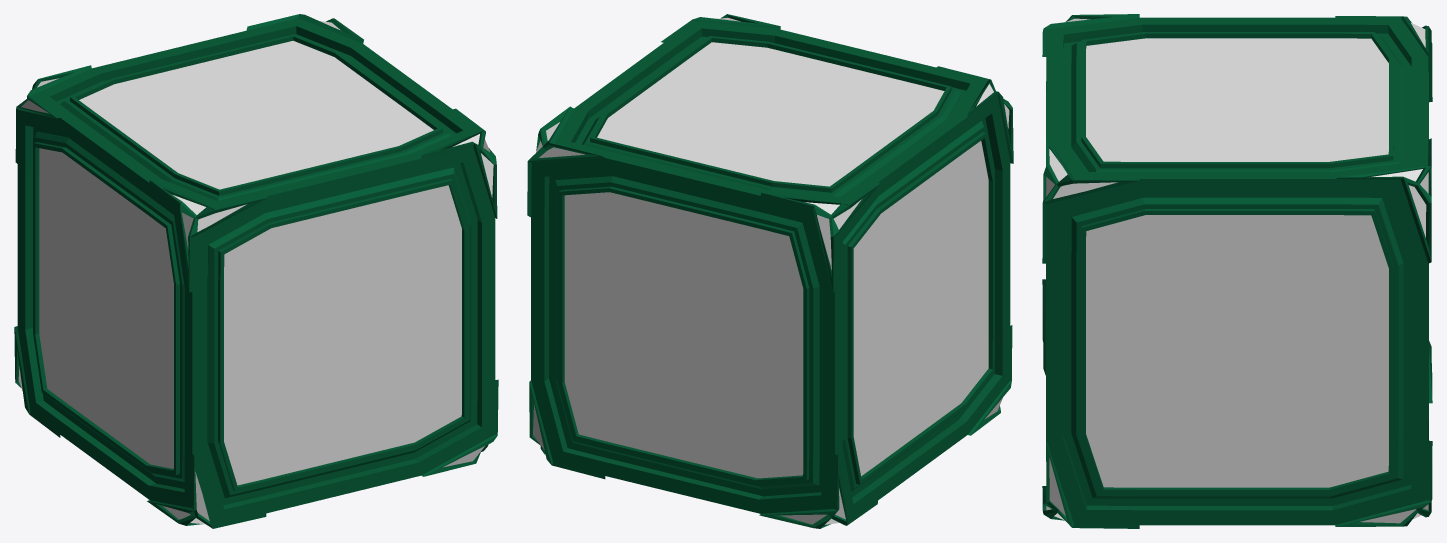
The picture shows the model from 3 angles, left to right: view 1: azimuth 30°, elevation 25°; view 2: azimuth 150°, elevation 25°; view 3: azimuth 270°, elevation 25°; orthographic projection. The views are drawn at different scales.
Parts seen in each view (by area): view 1: Cube; view 2: Cube; view 3: Cube.
Boxes of the visible parts, x1,y1,x2,y2 form: Cube: (14,14,498,528); Cube: (527,14,1013,528); Cube: (1042,14,1432,528).
Bounding box in the file's own units: 2.04 × 2.04 × 2.04.
